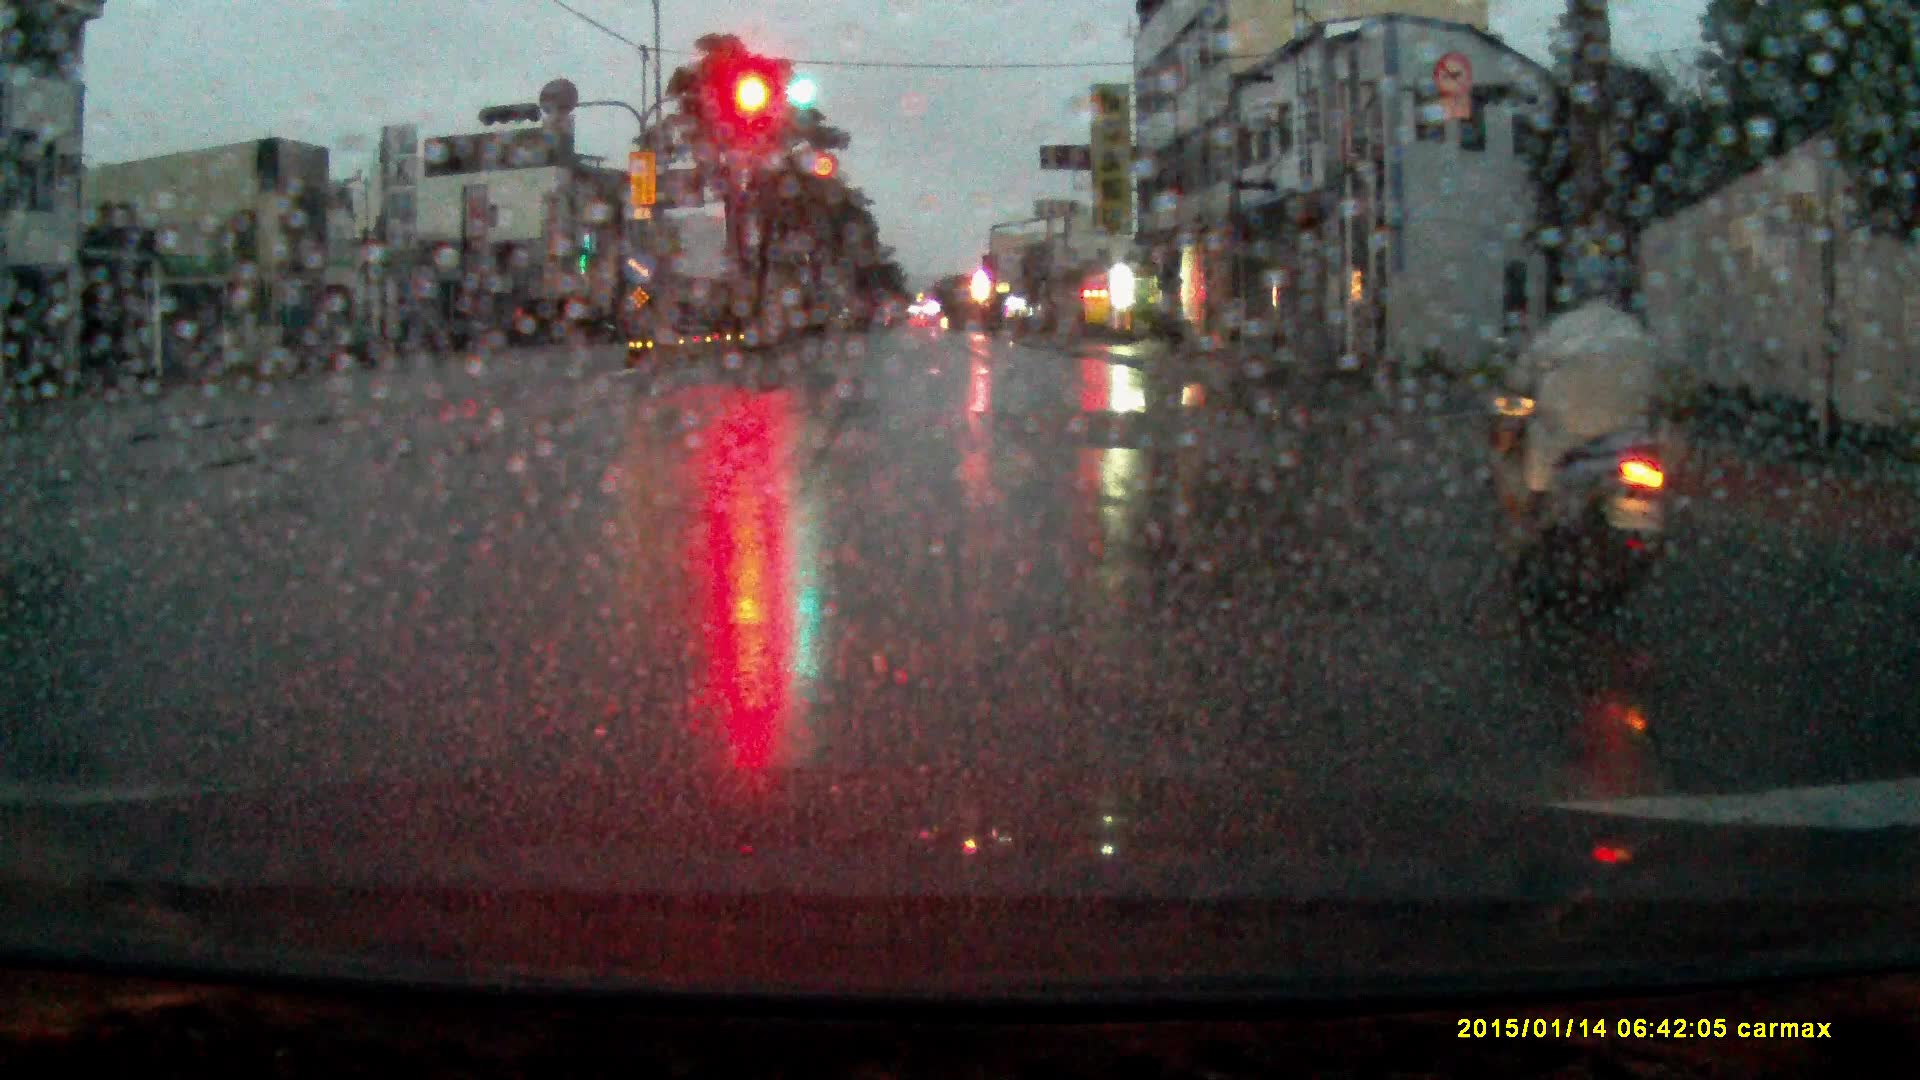rider: (1493, 249, 1699, 630)
